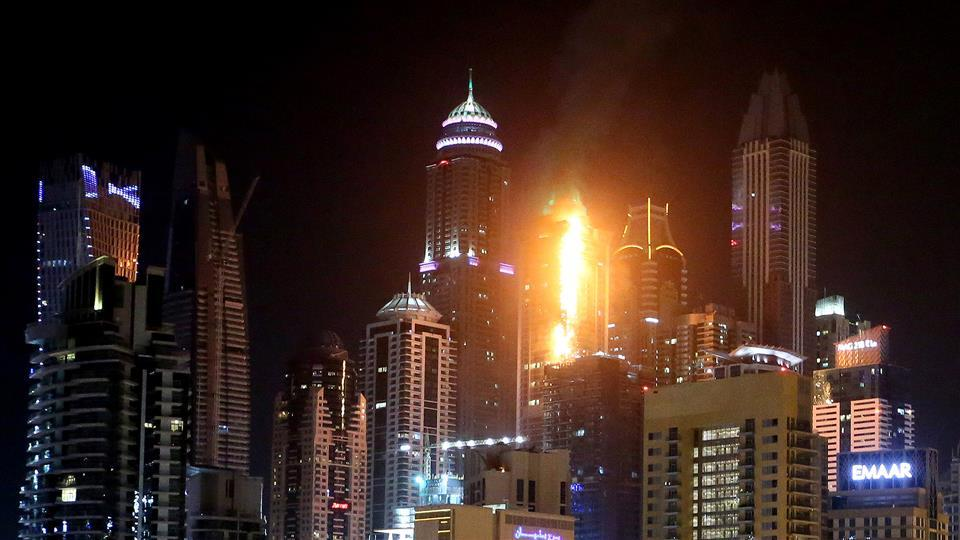Fire: (549, 178, 603, 374)
